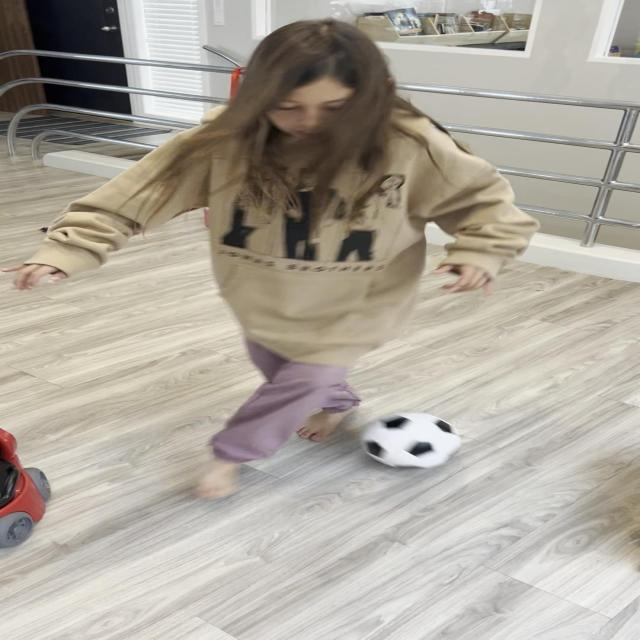Soccer Ball: (362, 413, 462, 469)
